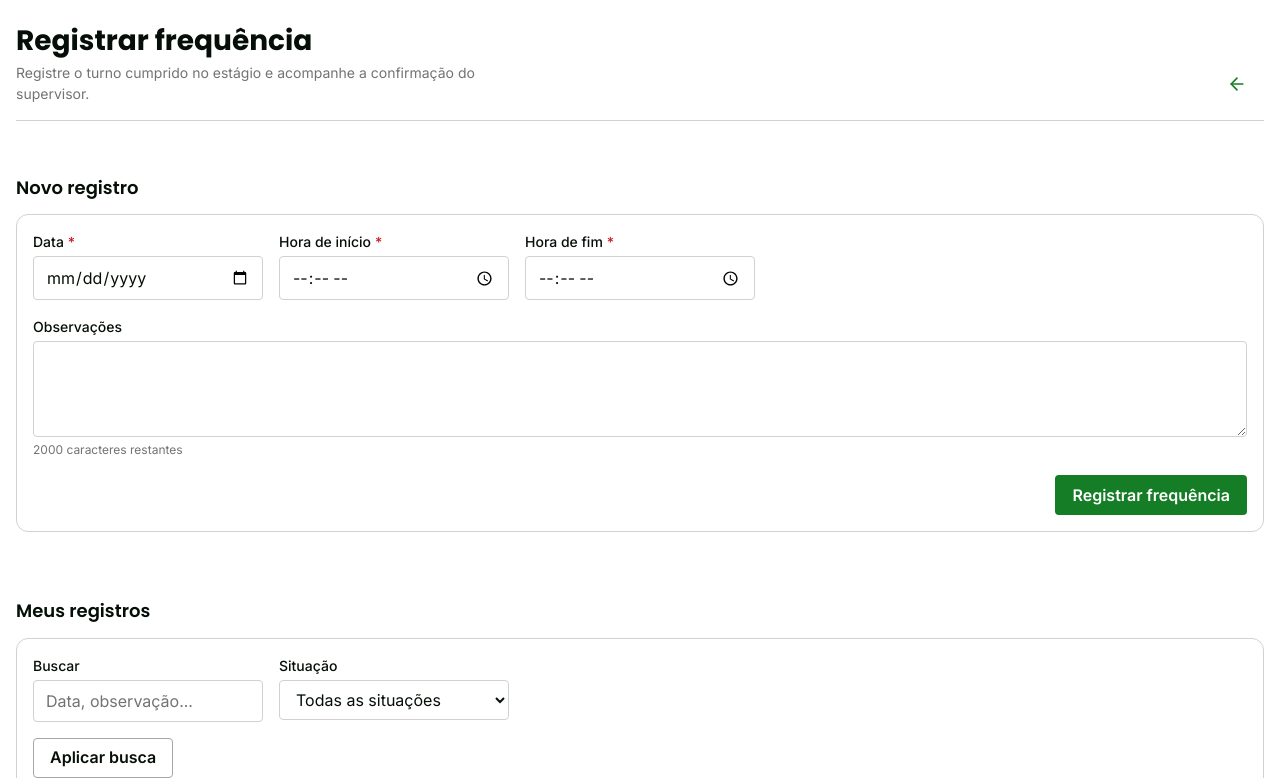
Test: FolhaDePontos › valida data e hora antes de enviar
The width and height of the screenshot is (1280, 778).
Click the button "Registrar frequência" at coordinates (1151, 495), box x1=1056 y1=475 x2=1247 y2=515
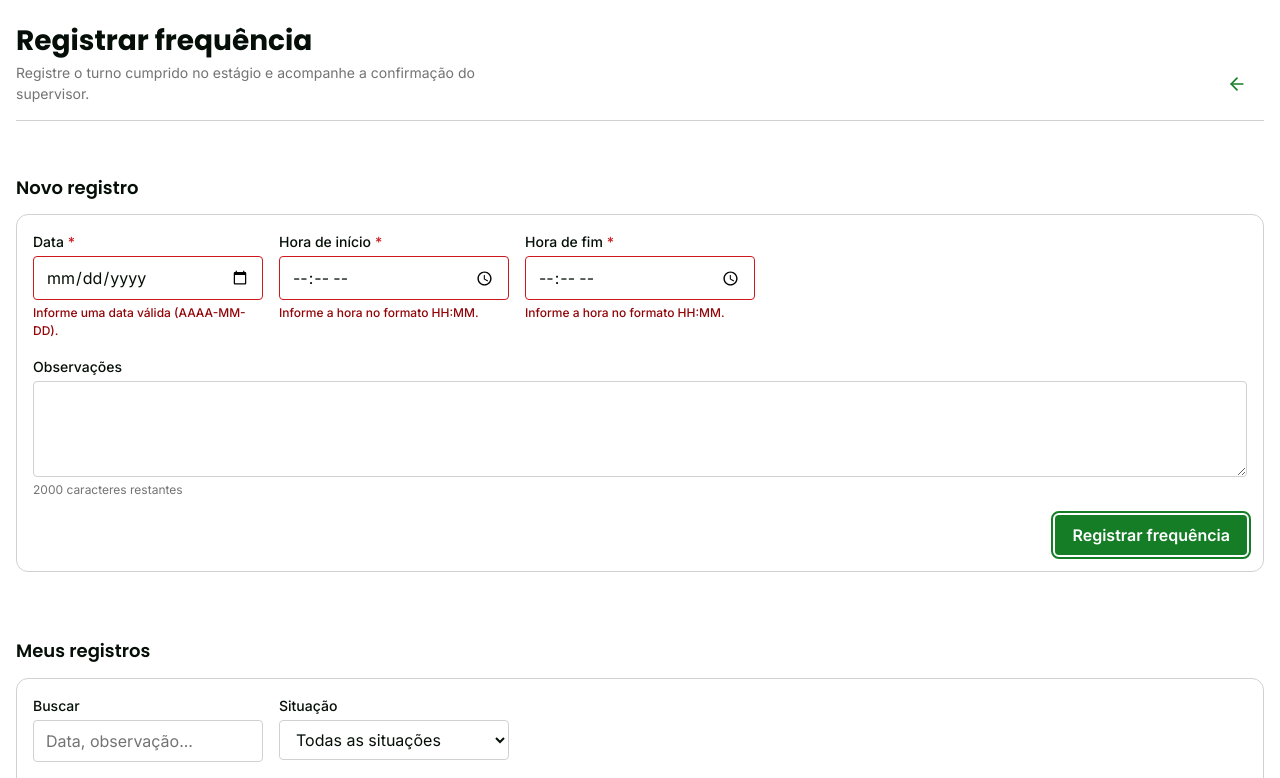
Check: the text "Informe uma data válida (AAAA-MM-DD)." is shown, box x1=33 y1=304 x2=263 y2=340
